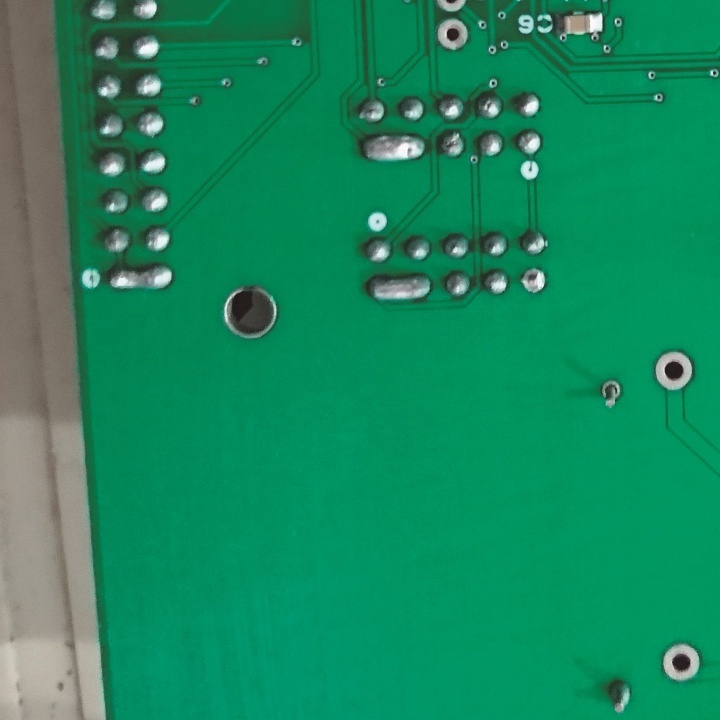F: (649, 348, 695, 396), (657, 639, 703, 683), (433, 16, 473, 54), (517, 264, 548, 299), (595, 376, 623, 414)
P: (358, 130, 429, 167), (361, 271, 434, 305), (106, 264, 177, 294)
